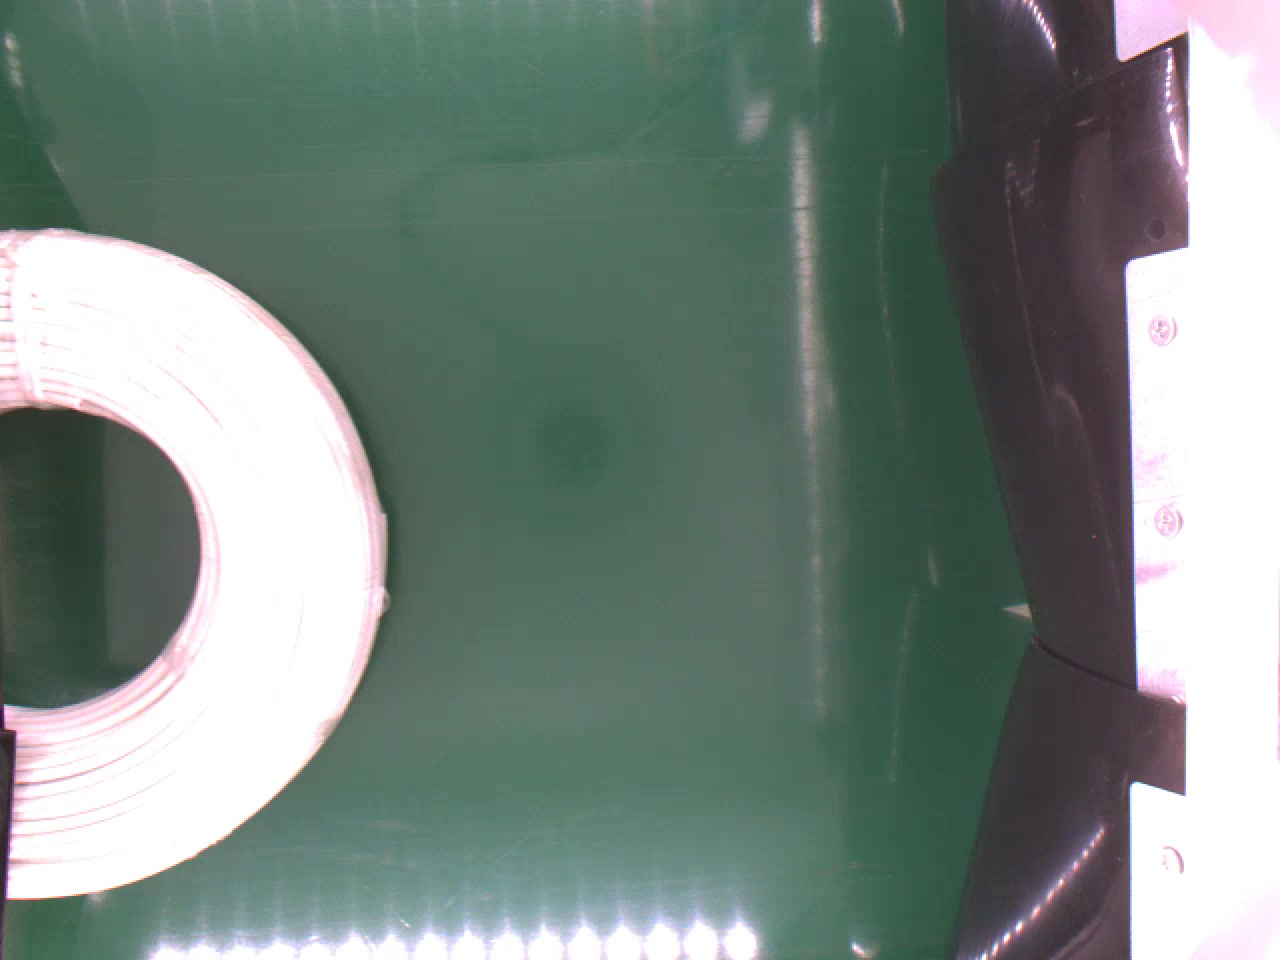white: (0, 227, 399, 898)
